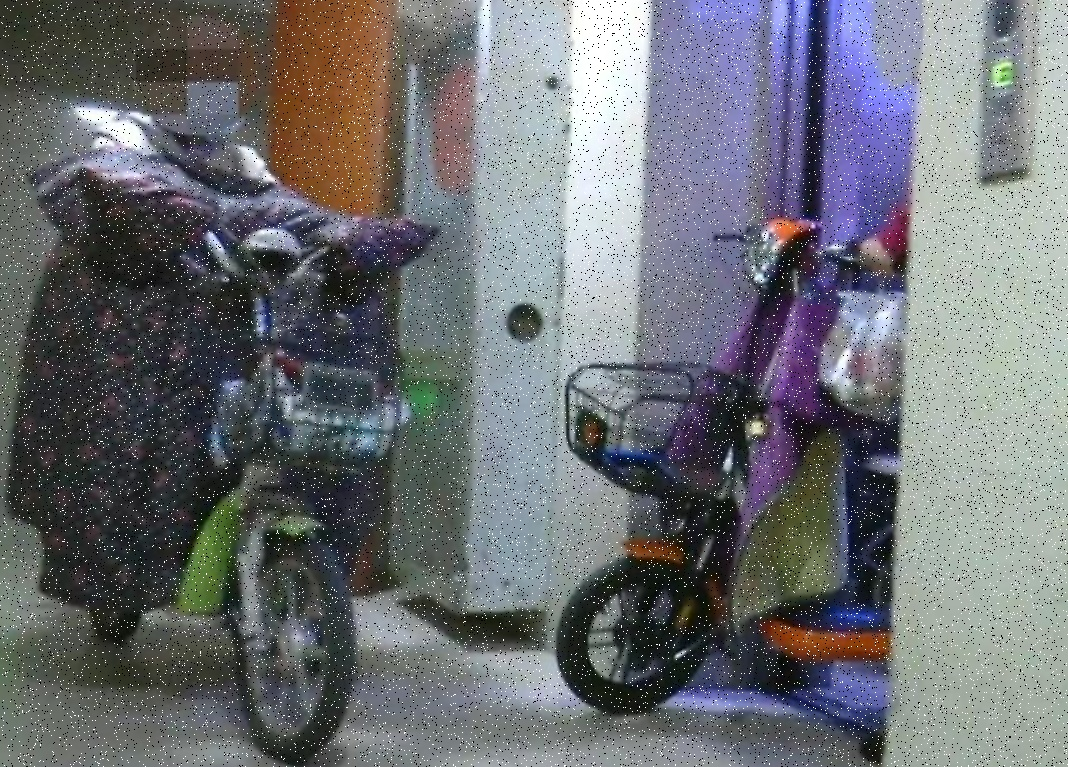ebike: (16, 157, 426, 755), (555, 218, 896, 716)
